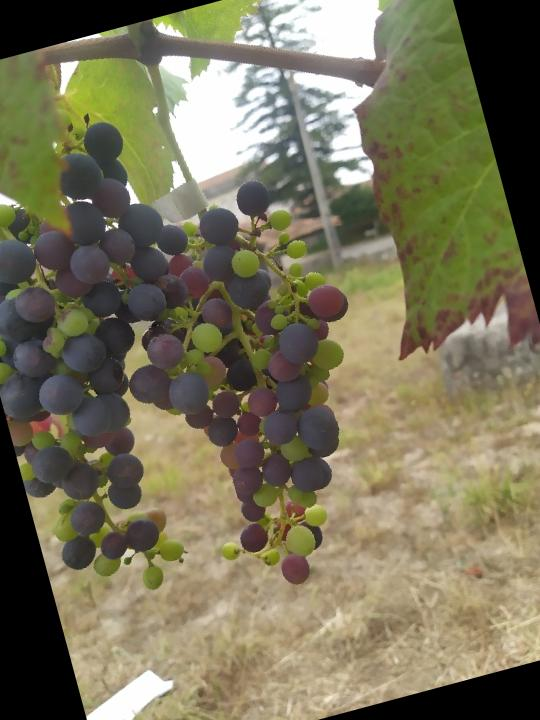grape: (83, 165, 420, 618), (0, 97, 270, 615)
